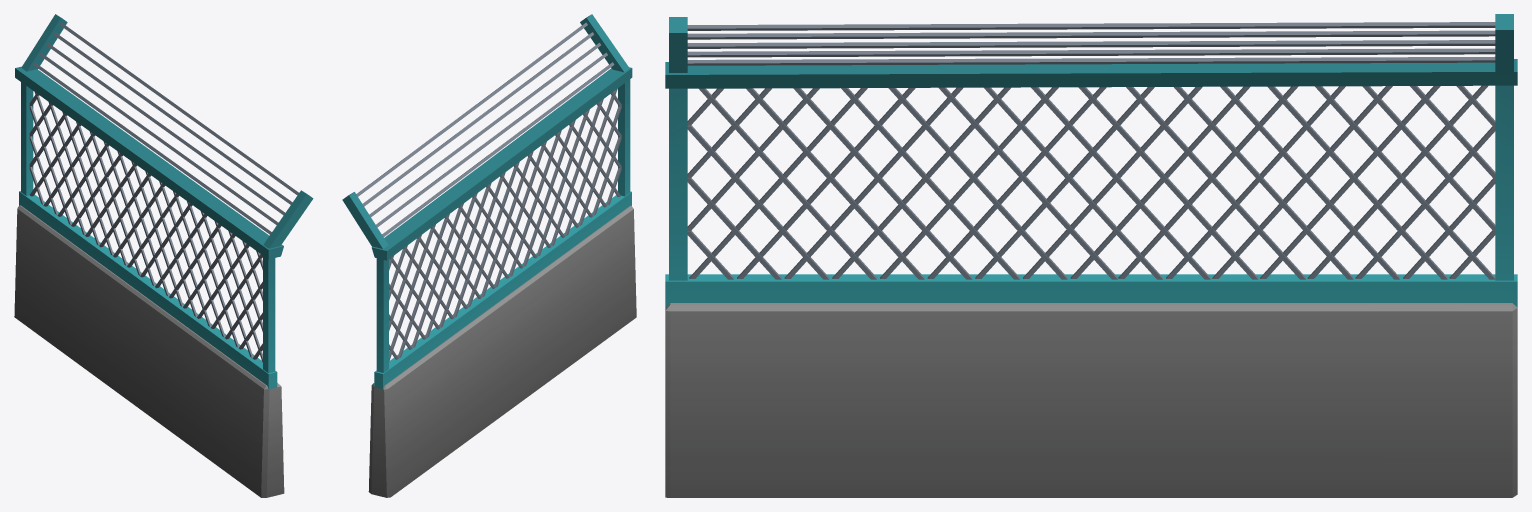
Rendered from Fence_6_1_D.fbx.
The picture shows the model from 3 angles, left to right: view 1: azimuth 30°, elevation 25°; view 2: azimuth 150°, elevation 25°; view 3: azimuth 270°, elevation 25°; orthographic projection. The views are drawn at different scales.
Parts seen in each view (by area): view 1: Fence_6_1_D; view 2: Fence_6_1_D; view 3: Fence_6_1_D.
Part boxes in pixels (left/top/right/bottom): Fence_6_1_D: left=14, top=14, right=313, bottom=497; Fence_6_1_D: left=342, top=14, right=636, bottom=497; Fence_6_1_D: left=665, top=14, right=1517, bottom=497.
Bounding box in the file's own units: 72.15 × 388 × 600.
